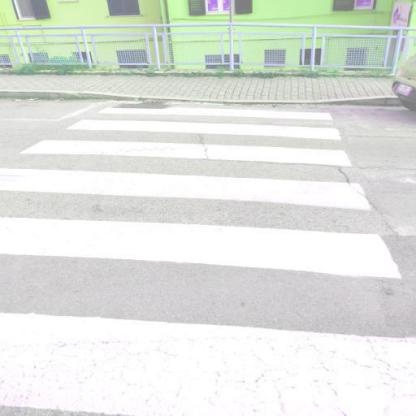crosswalk: (1, 213, 415, 415), (17, 118, 358, 174)
